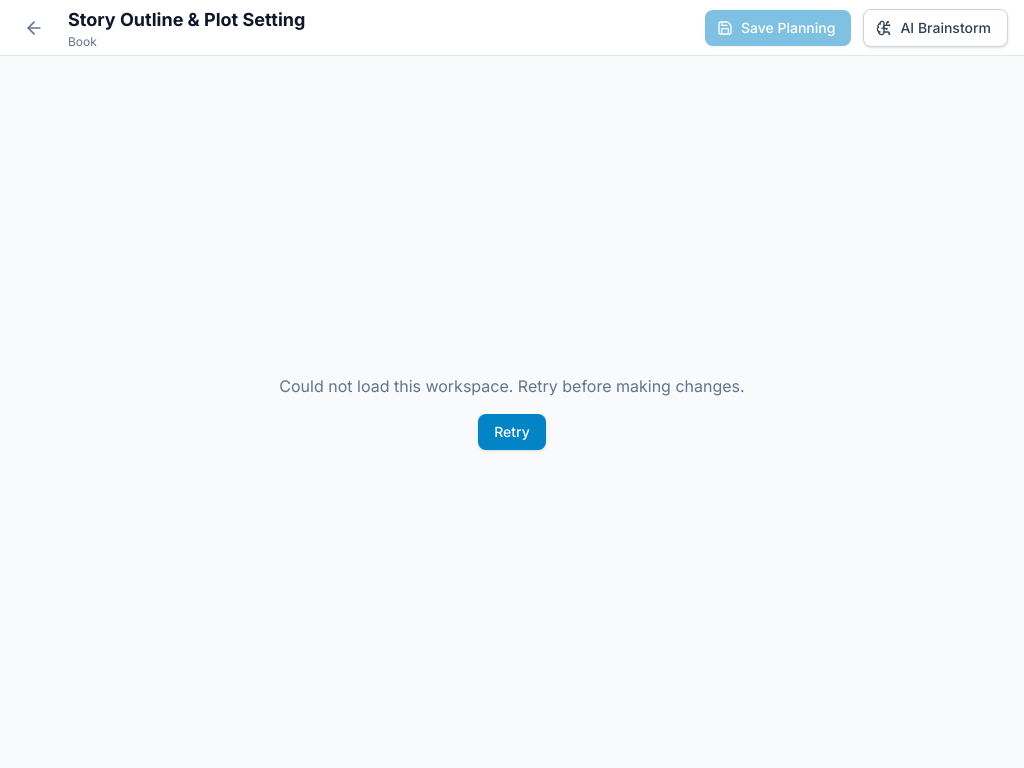
Test case: blocks editing after a failed planning load and allows retrying an empty workspace
Expected: the message shows "Could not load this workspace", x1=279 y1=376 x2=745 y2=396
Expected: the button "Save Planning" is disabled, x1=705 y1=10 x2=852 y2=46
Click the button "Retry" at (512, 432), box x1=478 y1=414 x2=546 y2=450
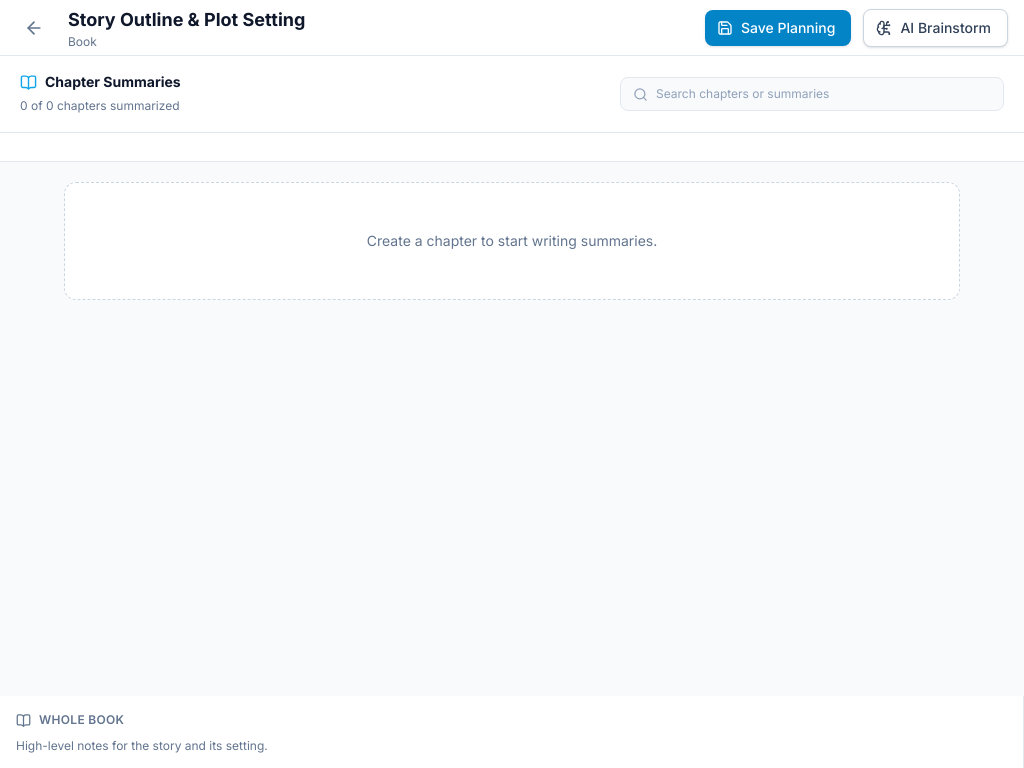
Expected: the button "Save Planning" is enabled, x1=705 y1=10 x2=852 y2=46
